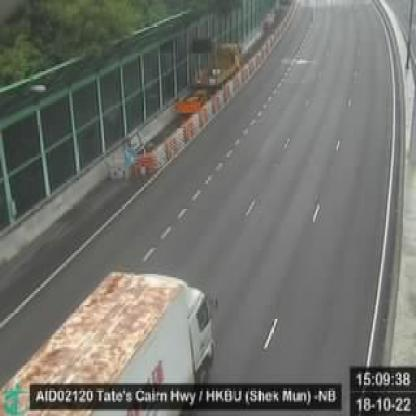Truck: (2, 271, 218, 404)
